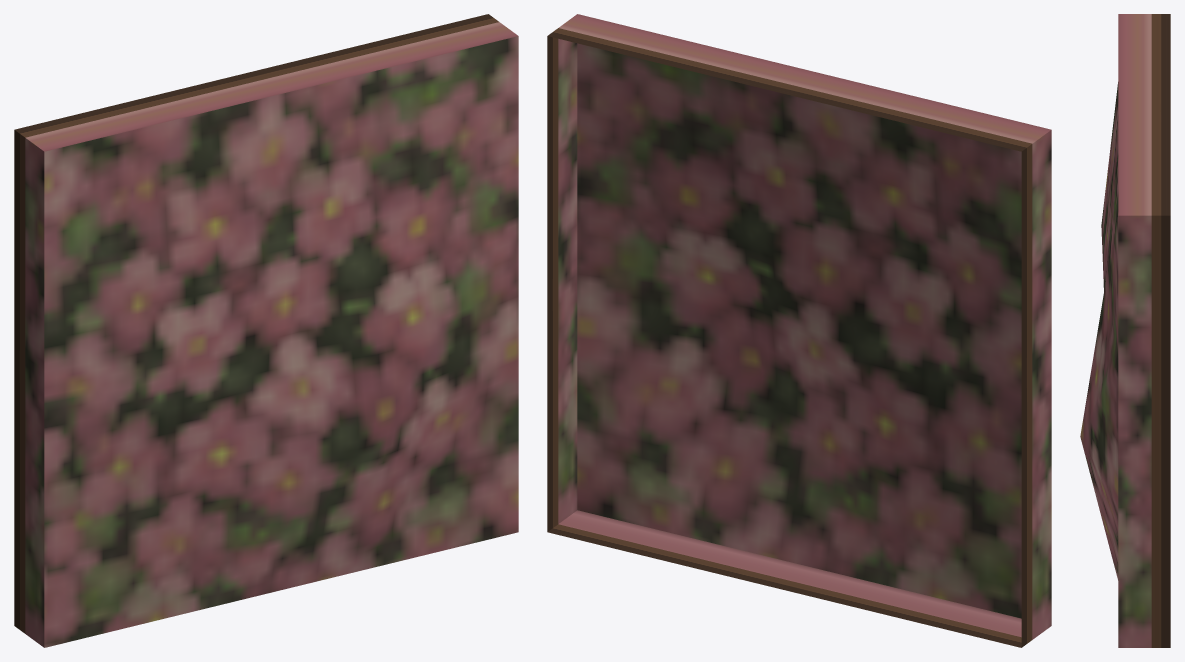
The model's file is keep-bed-palesalmon.obj.
The picture shows the model from 3 angles, left to right: view 1: azimuth 30°, elevation 25°; view 2: azimuth 150°, elevation 25°; view 3: azimuth 270°, elevation 25°; orthographic projection. The views are drawn at different scales.
Parts seen in each view (by area): view 1: bed-palesalmon; view 2: bed-palesalmon; view 3: bed-palesalmon.
Part boxes in pixels (bbox=[...]): bed-palesalmon: bbox=[14, 14, 518, 647]; bed-palesalmon: bbox=[547, 14, 1051, 647]; bed-palesalmon: bbox=[1080, 14, 1170, 647].
Size of the model in its own units: 1 by 1 by 0.1895.
1 material, 1 textured.
